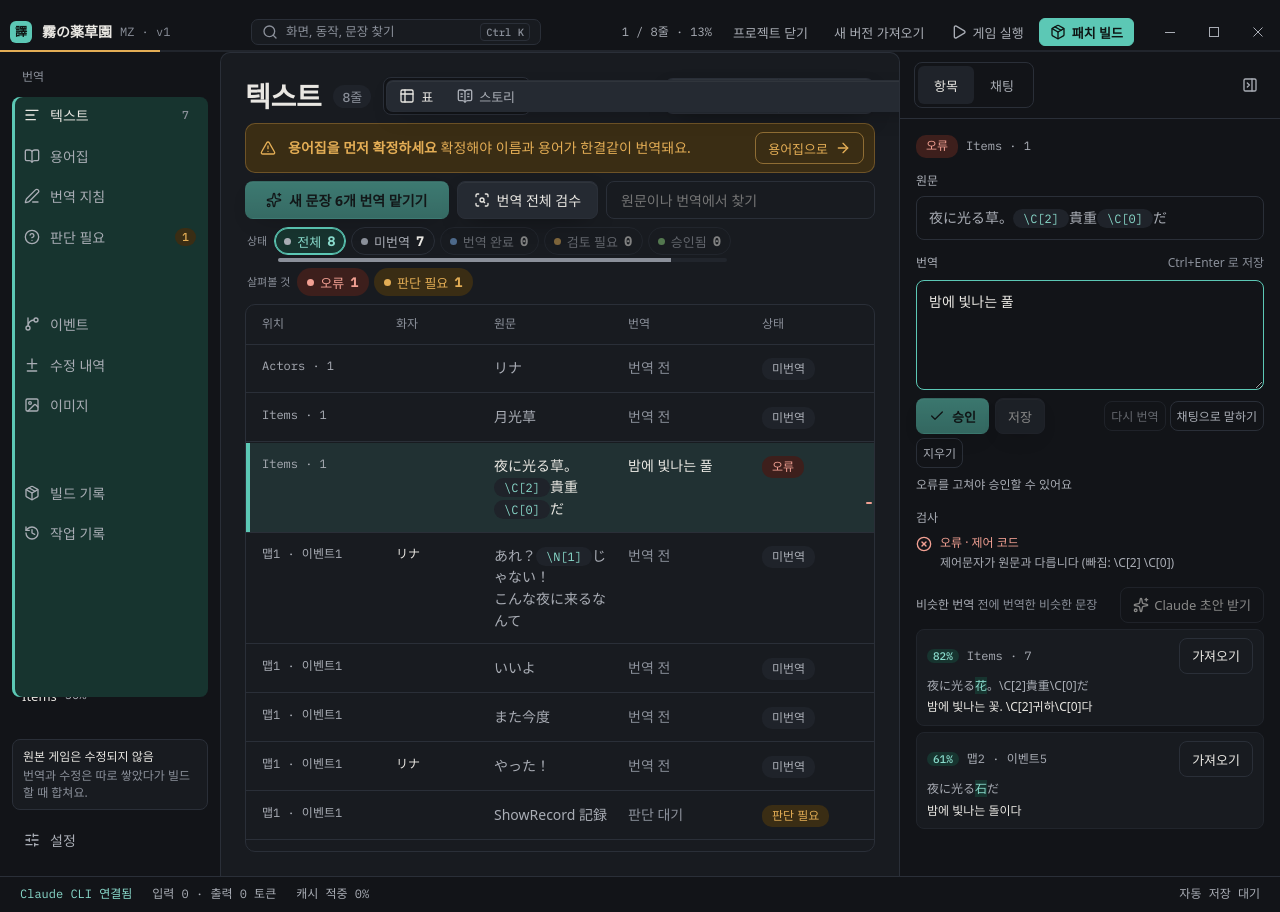
가져오기는 번역 칸의 초안만 바꾸고 저장하지 않는다
Expected: the text "霧の薬草園" is shown, left=42, top=21, right=112, bottom=43
Click the button "가져오기" next to "맵2 · 이벤트5" at (1216, 759), box left=1179, top=741, right=1253, bottom=777
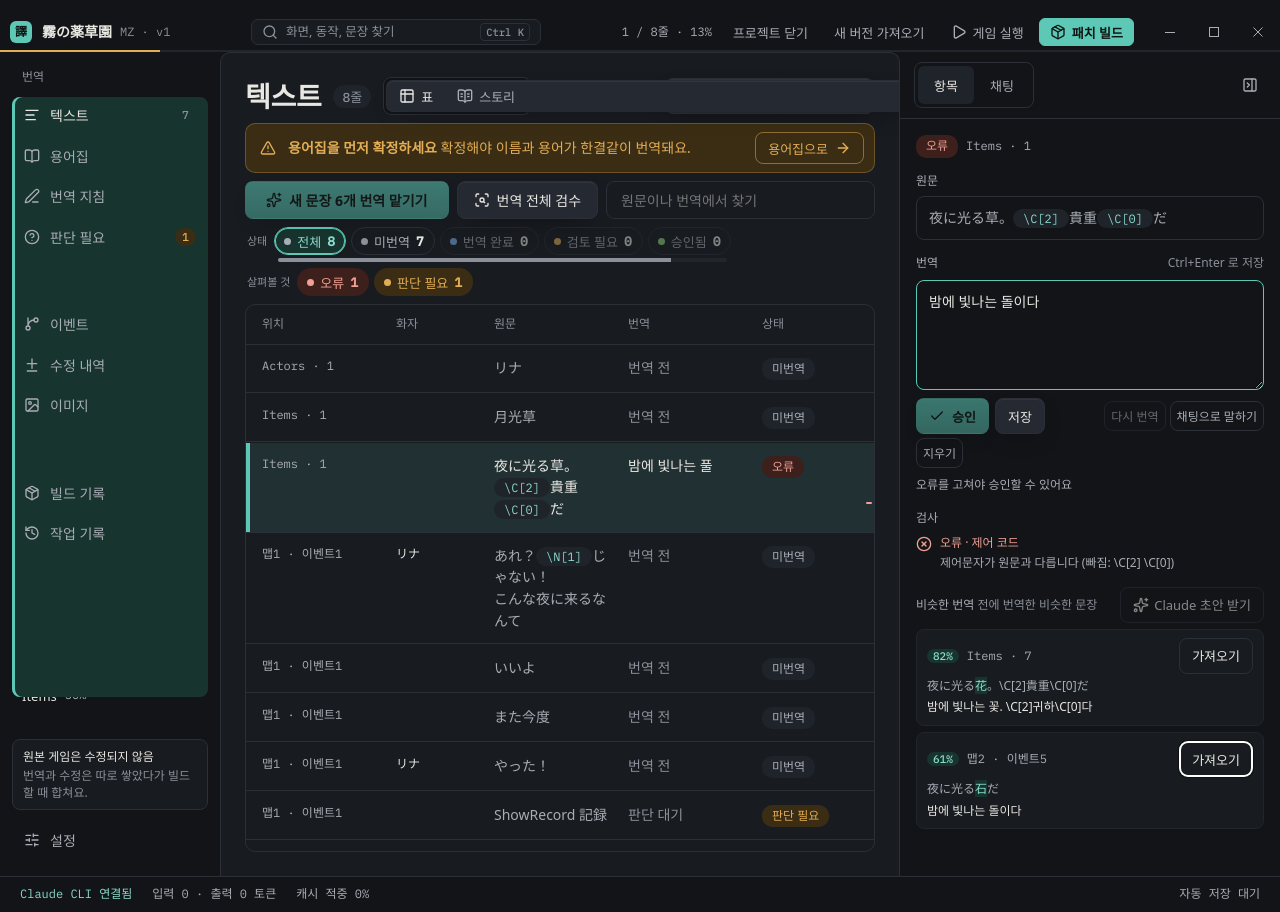
Expected: the text box labelled "번역" holds "밤에 빛나는 돌이다", left=916, top=280, right=1264, bottom=390
Expected: the button "저장" is enabled, left=995, top=398, right=1045, bottom=434
